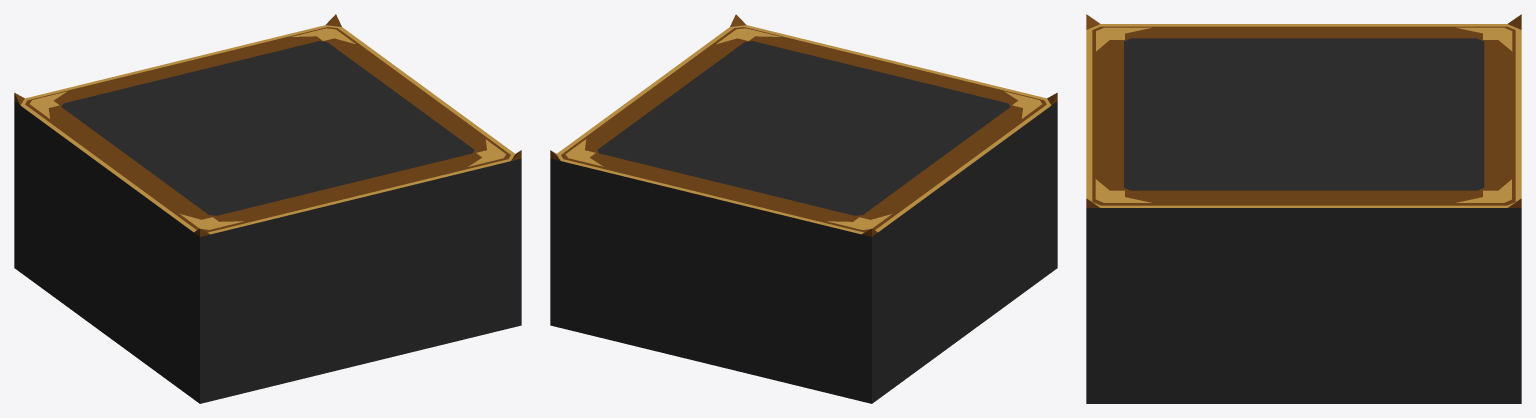
Rendered from TILE_SIGNAL_NODE.FBX.
3 views of the same model, side by side, from view 1: azimuth 30°, elevation 25°; view 2: azimuth 150°, elevation 25°; view 3: azimuth 270°, elevation 25° (orthographic). The views are drawn at different scales.
Visible parts, largest first — view 1: GRID_TILE_SIGNAL_NODE; view 2: GRID_TILE_SIGNAL_NODE; view 3: GRID_TILE_SIGNAL_NODE.
Boxes of the visible parts, left/top/right/bottom form: GRID_TILE_SIGNAL_NODE: left=14, top=14, right=521, bottom=403; GRID_TILE_SIGNAL_NODE: left=550, top=14, right=1057, bottom=403; GRID_TILE_SIGNAL_NODE: left=1086, top=14, right=1521, bottom=403.
Bounding box in the file's own units: 100 × 100 × 52.15.
